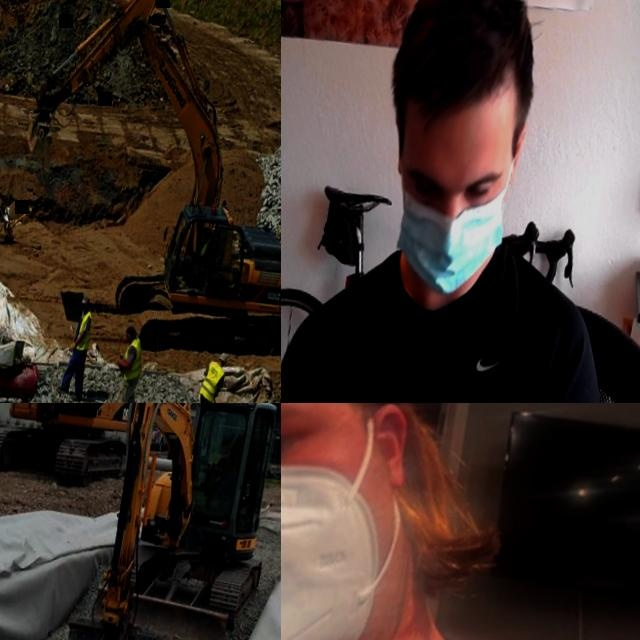Hardhat: (219, 353, 228, 363)
Mask: (281, 438, 413, 640), (386, 165, 514, 303)
NO-Hardhat: (389, 0, 543, 113), (81, 295, 90, 306), (125, 326, 135, 334), (202, 228, 210, 235)
NO-Mask: (126, 338, 132, 344), (83, 308, 89, 313)
NO-Safety Vest: (285, 239, 582, 403), (281, 586, 640, 640)
Person: (281, 0, 640, 403), (281, 403, 640, 640), (59, 294, 98, 400), (105, 324, 151, 403), (210, 435, 246, 495), (192, 349, 229, 403), (182, 226, 213, 276)
Safety Vest: (120, 338, 147, 385), (200, 362, 225, 403), (72, 312, 95, 353), (197, 241, 212, 260)
machinery: (0, 0, 281, 370), (56, 403, 281, 640), (0, 403, 176, 510)
